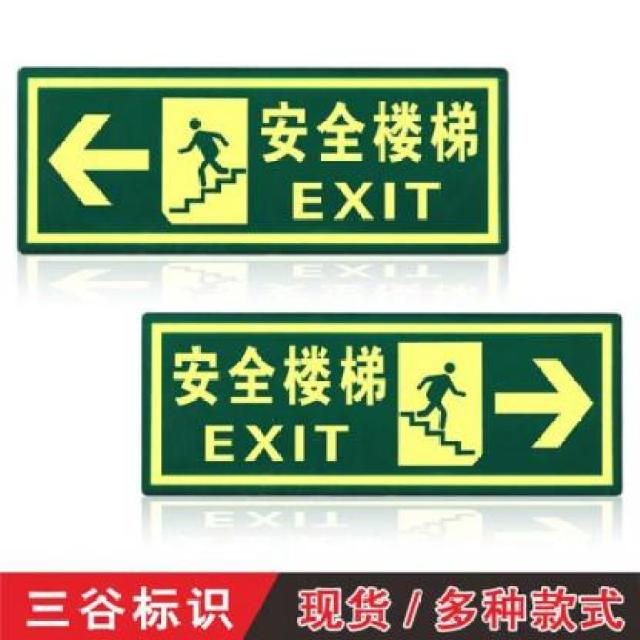exit_sign: (26, 57, 503, 249), (156, 314, 612, 495)
